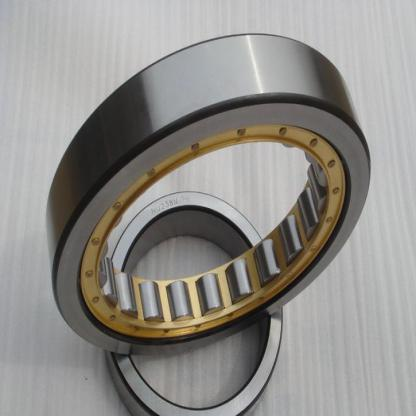FOD: (41, 26, 374, 360)
